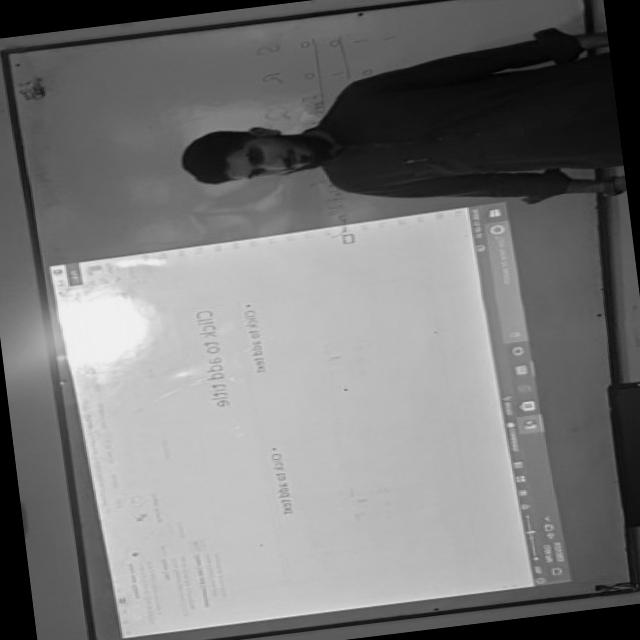Instructor: (167, 47, 606, 230)
Slide: (42, 199, 579, 638)
White-board: (2, 0, 638, 640)
